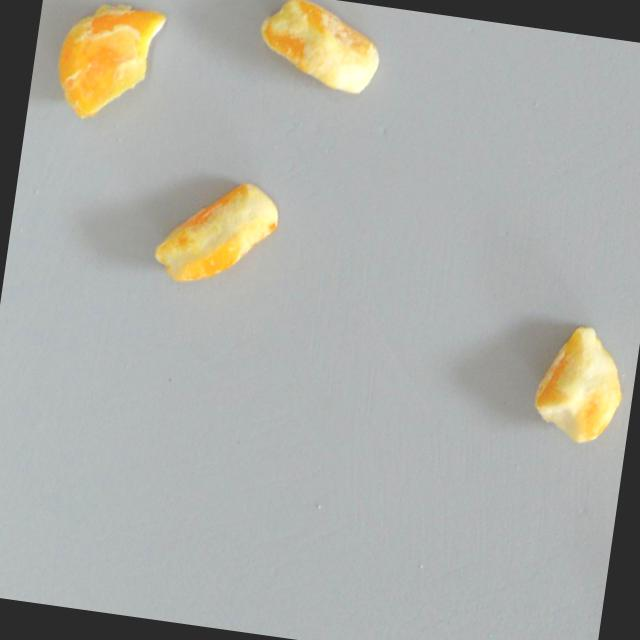dañado: (143, 166, 287, 299), (44, 0, 173, 136), (522, 317, 636, 454), (246, 0, 391, 103)
